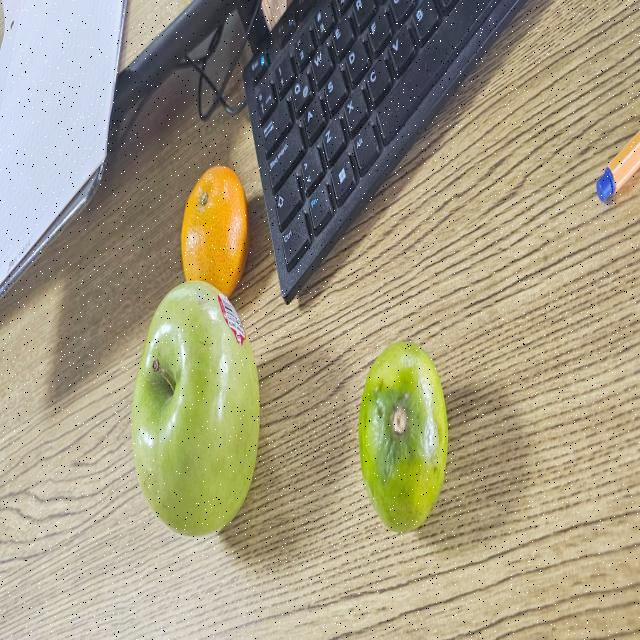Apel Granny Smith: (126, 275, 265, 548)
Jeruk Mandarin: (182, 159, 252, 298)
Lemon: (356, 333, 450, 536)
